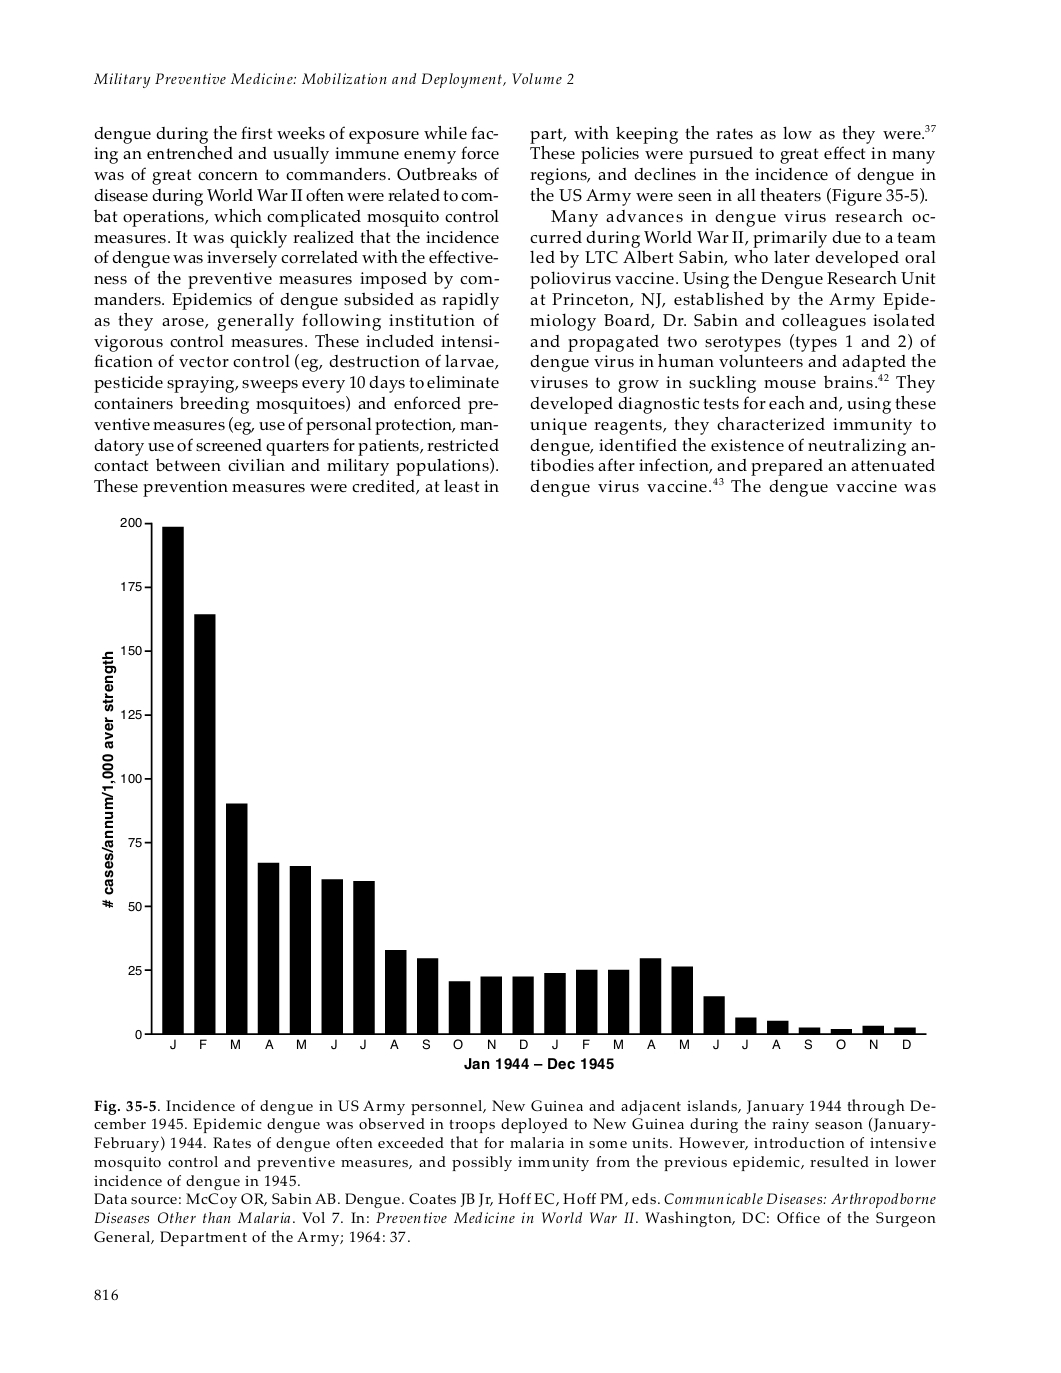figure: (101, 517, 926, 1069)
